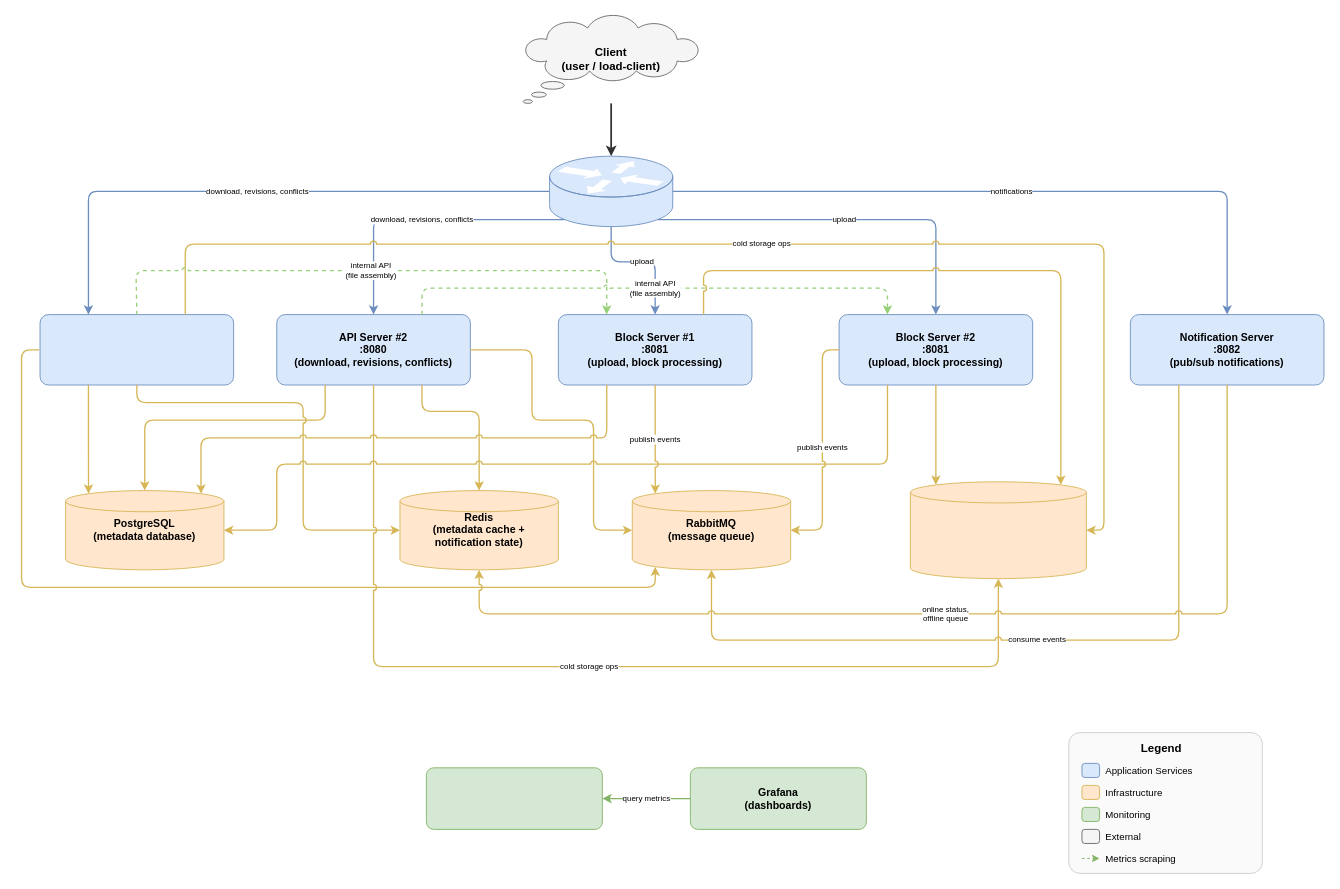
The diagram is 1340 pixels wide and 889 high, and some of its shapes have lost their labels. The shapes that lost their labels are listed below. From the top down, each one's box as (x1, y1, x2, y2) in pixels, then its label:
(549, 155, 673, 227): Nginx :80
(39, 314, 234, 385): API Server #1 :8080 (download, revisions, conflicts)
(909, 481, 1086, 579): MinIO (object storage) block-storage (HOT) cold-storage (COLD)
(425, 767, 602, 829): Prometheus (metrics scraping)
